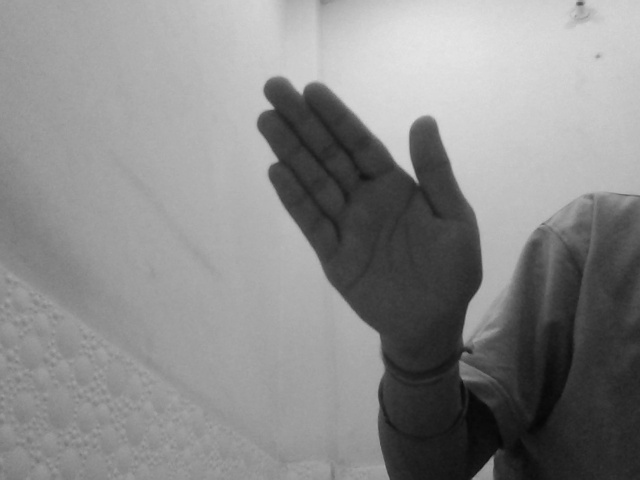Hello: (254, 74, 487, 357)
